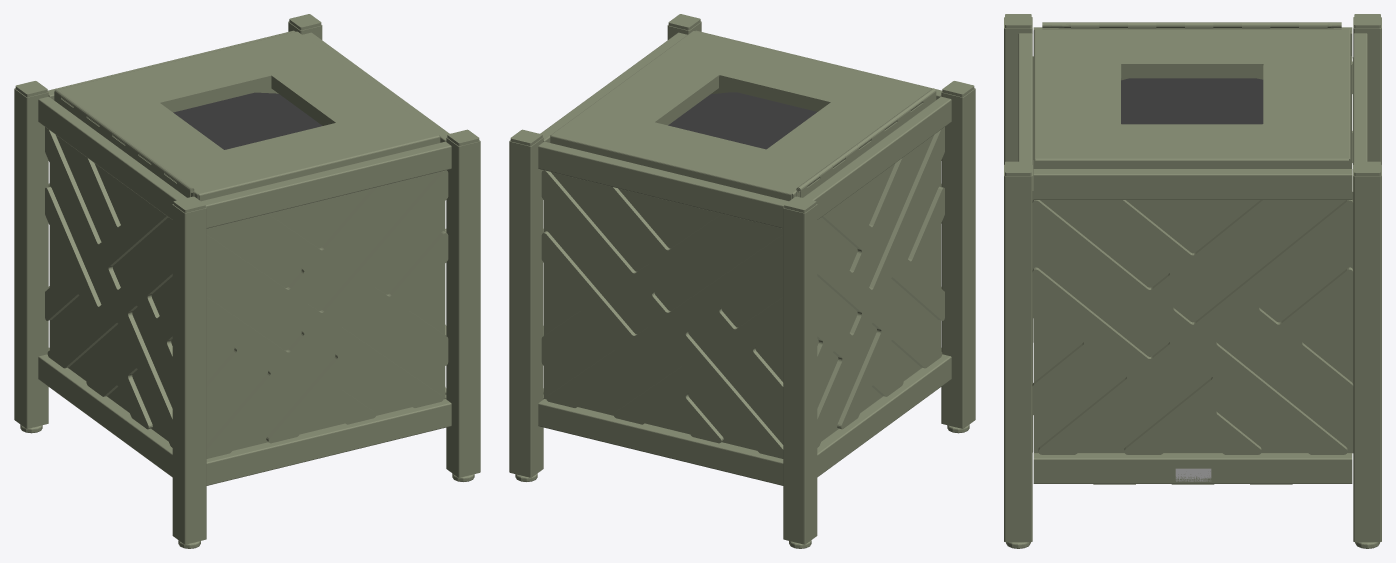
3 renders of one model, left to right at view 1: azimuth 30°, elevation 25°; view 2: azimuth 150°, elevation 25°; view 3: azimuth 270°, elevation 25°, orthographic. The views are drawn at different scales.
Visible parts, largest first — view 1: mesh43.002_mesh43-geometry, mesh10.004_mesh10-geometry, mesh14.002_mesh14-geometry, mesh40.002_mesh40-geometry, mesh39.002_mesh39-geometry, mesh41.002_mesh41-geometry, mesh35.002_mesh35-geometry, mesh36.002_mesh36-geometry, mesh74.002_mesh74-geometry, mesh31.002_mesh31-geometry, mesh32.002_mesh32-geometry, mesh70.002_mesh70-geometry (+3 smaller); view 2: mesh43.002_mesh43-geometry, mesh14.002_mesh14-geometry, mesh10.003_mesh10-geometry, mesh41.002_mesh41-geometry, mesh42.002_mesh42-geometry, mesh40.002_mesh40-geometry, mesh10.004_mesh10-geometry, mesh37.002_mesh37-geometry, mesh38.002_mesh38-geometry, mesh74.002_mesh74-geometry, mesh31.002_mesh31-geometry, mesh32.002_mesh32-geometry (+4 smaller); view 3: mesh43.002_mesh43-geometry, mesh10.003_mesh10-geometry, mesh14.002_mesh14-geometry, mesh42.002_mesh42-geometry, mesh39.002_mesh39-geometry, mesh33.002_mesh33-geometry, mesh34.002_mesh34-geometry, mesh74.002_mesh74-geometry, mesh70.002_mesh70-geometry, mesh41.002_mesh41-geometry, mesh40.002_mesh40-geometry, mesh12.002_mesh12-geometry (+4 smaller).
Part boxes in pixels (box(x1,y1,x2,y2)): mesh43.002_mesh43-geometry: box(45, 127, 448, 458); mesh10.004_mesh10-geometry: box(49, 135, 444, 450); mesh14.002_mesh14-geometry: box(59, 31, 440, 200); mesh40.002_mesh40-geometry: box(172, 204, 206, 544); mesh39.002_mesh39-geometry: box(446, 137, 480, 477); mesh41.002_mesh41-geometry: box(14, 88, 48, 428); mesh35.002_mesh35-geometry: box(201, 141, 451, 228); mesh36.002_mesh36-geometry: box(206, 399, 451, 485); mesh74.002_mesh74-geometry: box(173, 92, 322, 199); mesh31.002_mesh31-geometry: box(38, 96, 186, 219); mesh32.002_mesh32-geometry: box(38, 354, 172, 477); mesh70.002_mesh70-geometry: box(54, 89, 194, 197); mesh43.002_mesh43-geometry: box(541, 127, 944, 458); mesh14.002_mesh14-geometry: box(550, 31, 931, 200); mesh10.003_mesh10-geometry: box(544, 172, 783, 450); mesh41.002_mesh41-geometry: box(783, 204, 817, 544); mesh42.002_mesh42-geometry: box(509, 137, 543, 477); mesh40.002_mesh40-geometry: box(941, 88, 975, 428); mesh10.004_mesh10-geometry: box(711, 76, 940, 440); mesh37.002_mesh37-geometry: box(538, 141, 788, 228); mesh38.002_mesh38-geometry: box(538, 399, 783, 485); mesh74.002_mesh74-geometry: box(668, 92, 816, 149); mesh31.002_mesh31-geometry: box(803, 96, 951, 219); mesh32.002_mesh32-geometry: box(817, 354, 951, 477); mesh43.002_mesh43-geometry: box(1032, 61, 1353, 454); mesh10.003_mesh10-geometry: box(1034, 57, 1353, 453); mesh14.002_mesh14-geometry: box(1033, 29, 1350, 168); mesh42.002_mesh42-geometry: box(1353, 164, 1381, 542); mesh39.002_mesh39-geometry: box(1004, 164, 1032, 542); mesh33.002_mesh33-geometry: box(1033, 169, 1352, 199); mesh34.002_mesh34-geometry: box(1033, 453, 1352, 483); mesh74.002_mesh74-geometry: box(1121, 78, 1263, 124); mesh70.002_mesh70-geometry: box(1042, 22, 1341, 29); mesh41.002_mesh41-geometry: box(1353, 17, 1381, 164); mesh40.002_mesh40-geometry: box(1004, 17, 1032, 164); mesh12.002_mesh12-geometry: box(1121, 65, 1262, 78).
Size of the model in its own units: 0.5556 by 0.6186 by 0.5556.
